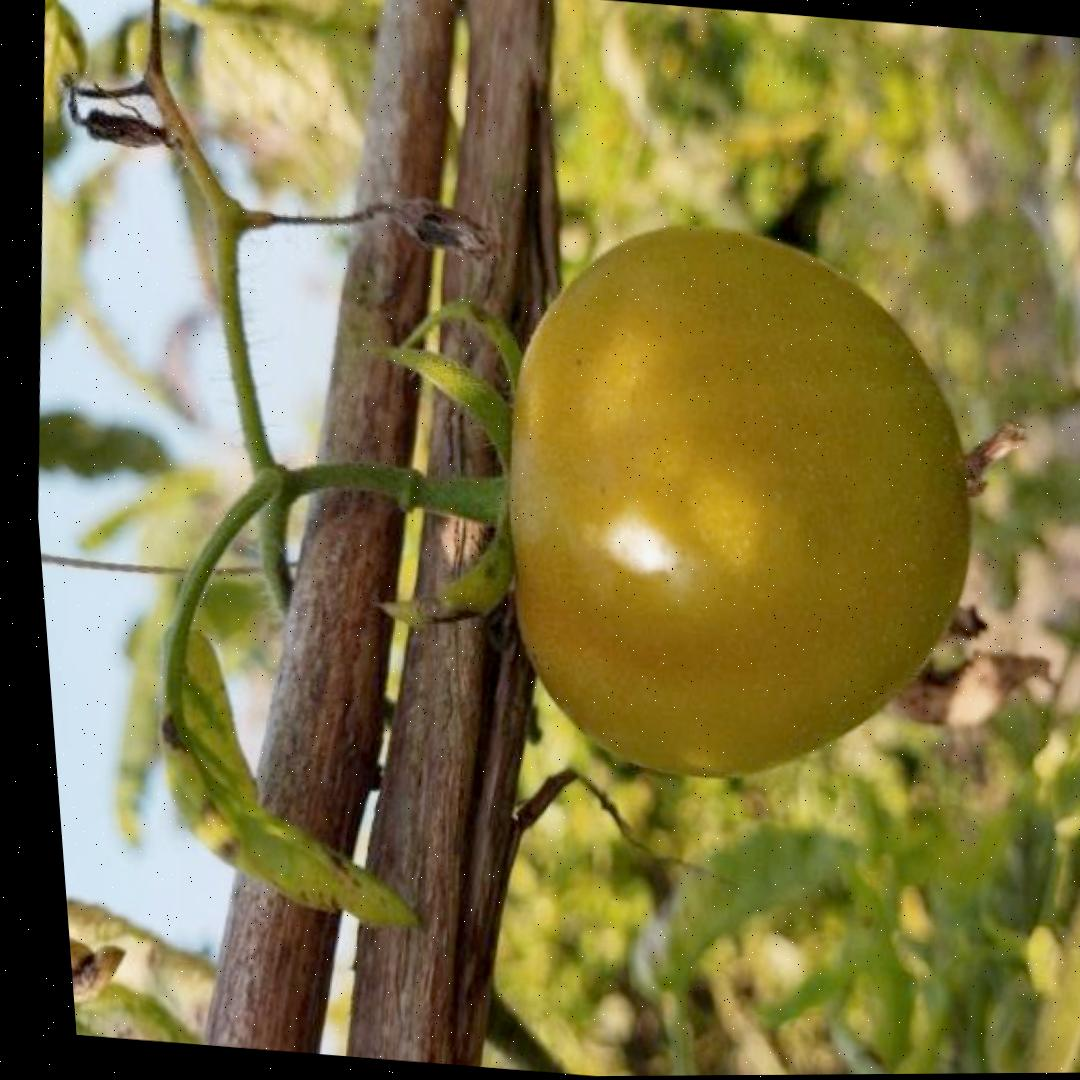setengah_matang: (458, 199, 1016, 805)
